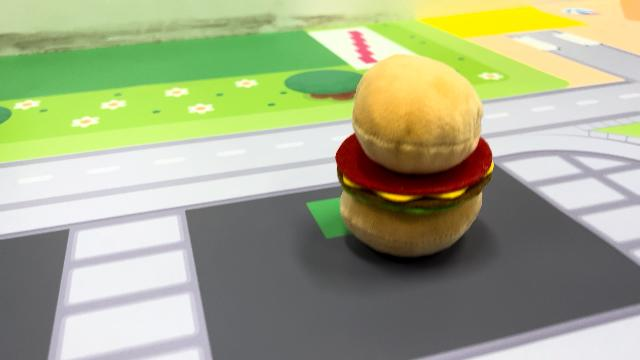burger: (330, 50, 498, 260)
